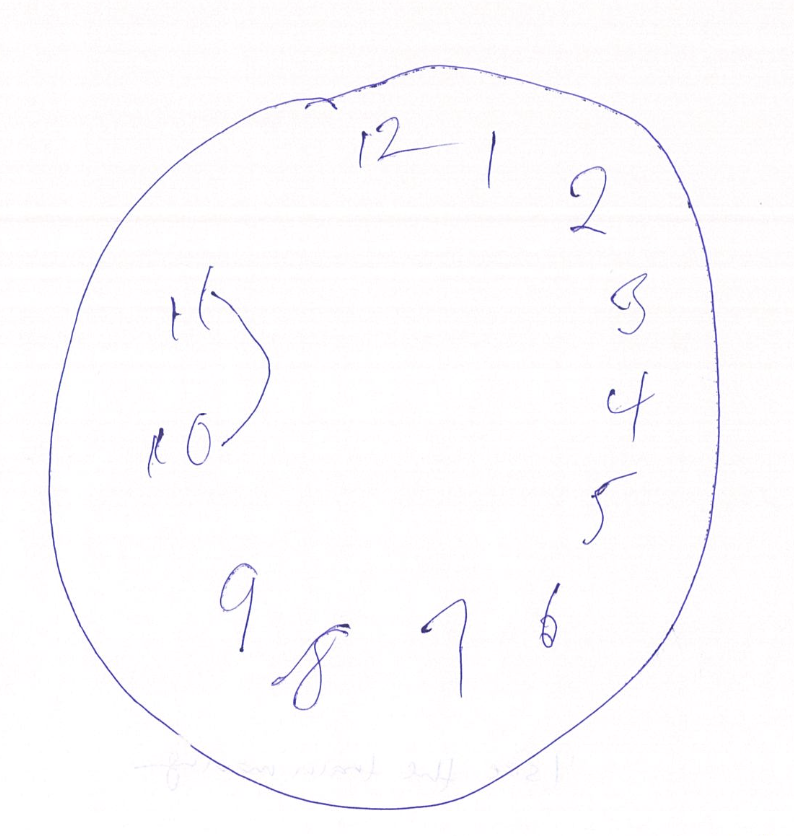1: (475, 122, 502, 194)
10: (140, 410, 223, 487)
11: (164, 263, 220, 344)
12: (348, 111, 460, 168)
2: (558, 160, 616, 241)
3: (601, 268, 655, 338)
4: (604, 368, 662, 443)
5: (575, 467, 635, 550)
6: (533, 579, 569, 654)
7: (416, 595, 472, 706)
8: (270, 618, 356, 714)
9: (214, 556, 261, 658)
contour: (43, 58, 726, 816)
